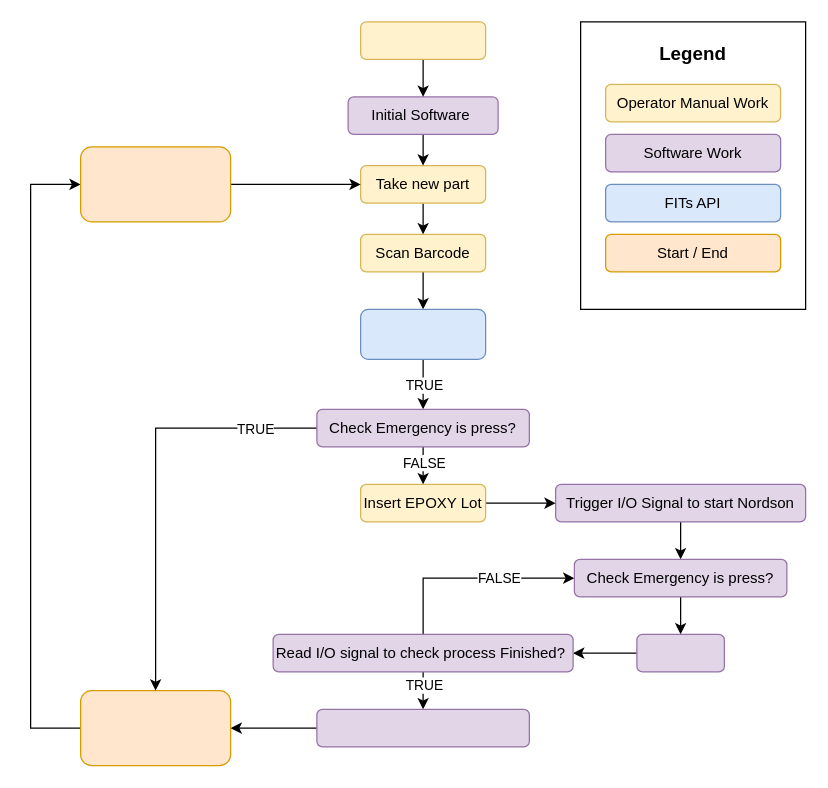
Some shapes in this 828 by 788 pixel diagram are drawn without their labels. Here are the shapes that lost their labels. From the top down, the centre of each, then its label:
the point at 422,40: Login
the point at 155,184: New process
the point at 422,333: Hand Chack Serial
the point at 680,652: Wait 1 sec
the point at 155,727: Process Ended
the point at 422,727: Display + Save result to FITs
